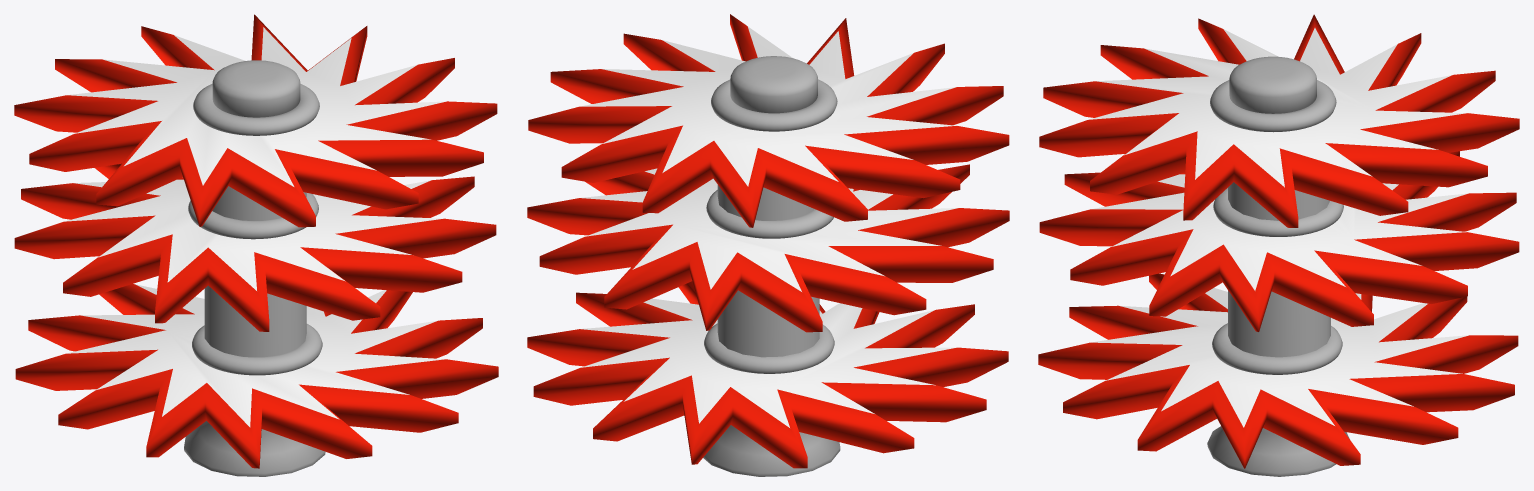
The model's file is Obstacle7.fbx.
The picture shows the model from 3 angles, left to right: view 1: azimuth 30°, elevation 25°; view 2: azimuth 150°, elevation 25°; view 3: azimuth 270°, elevation 25°; orthographic projection.
Parts seen in each view (by area): view 1: Circle, Torus.003, Torus.005, Cylinder.014; view 2: Circle, Torus.003, Torus.005, Cylinder.014; view 3: Circle, Torus.003, Torus.005, Cylinder.014.
Part boxes in pixels (x1,y1,x2,y2): Circle: (14, 14, 497, 227); Torus.003: (15, 284, 498, 468); Torus.005: (14, 163, 496, 331); Cylinder.014: (184, 186, 325, 476); Circle: (528, 14, 1009, 227); Torus.003: (527, 281, 1008, 468); Torus.005: (527, 161, 1009, 332); Cylinder.014: (703, 185, 840, 476); Circle: (1039, 14, 1519, 227); Torus.003: (1038, 273, 1518, 468); Torus.005: (1039, 151, 1519, 331); Cylinder.014: (1207, 182, 1349, 476).
Bounding box in the file's own units: 241 × 207 × 240.
